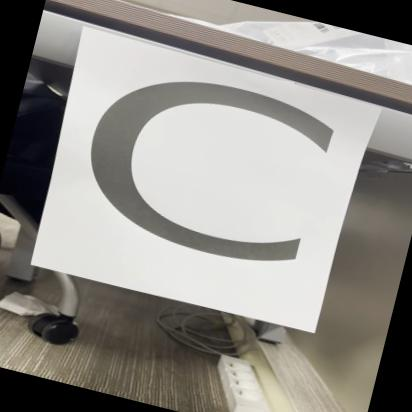seat: (31, 23, 378, 332)
